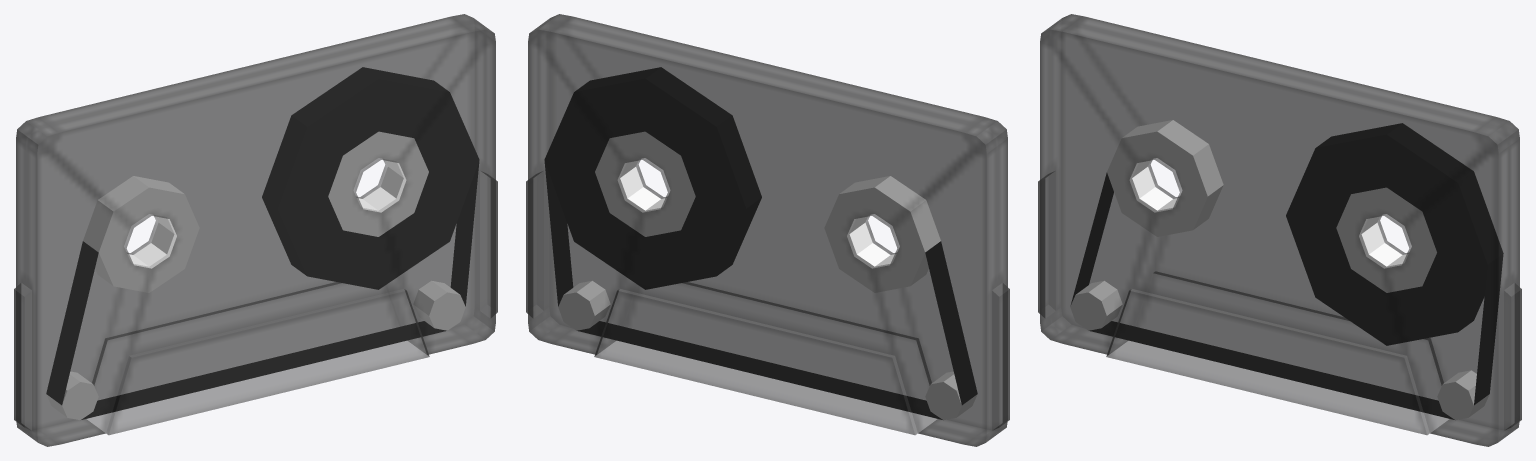
File: cassettelowpoly.glb
3 views of the same model, side by side, from view 1: azimuth 30°, elevation 25°; view 2: azimuth 150°, elevation 25°; view 3: azimuth 330°, elevation 25° (orthographic).
Visible parts, largest first — view 1: Behuizing, Band, Band2, Spoel2, Spoel, Wieltje, Wieltje2; view 2: Behuizing, Band, Band2, Spoel2, Spoel, Wieltje, Wieltje2; view 3: Behuizing, Band, Spoel2, Band2, Spoel, Wieltje2, Wieltje.
Boxes of the visible parts, x1=… form: Behuizing: x1=14, y1=14, x2=497, y2=446; Band: x1=262, y1=67, x2=479, y2=289; Band2: x1=46, y1=161, x2=479, y2=419; Spoel2: x1=83, y1=176, x2=199, y2=292; Spoel: x1=328, y1=131, x2=428, y2=236; Wieltje: x1=413, y1=281, x2=465, y2=330; Wieltje2: x1=46, y1=371, x2=98, y2=419; Behuizing: x1=526, y1=14, x2=1009, y2=446; Band: x1=544, y1=67, x2=761, y2=289; Band2: x1=544, y1=161, x2=977, y2=419; Spoel2: x1=824, y1=176, x2=940, y2=292; Spoel: x1=595, y1=131, x2=695, y2=236; Wieltje: x1=558, y1=281, x2=610, y2=330; Wieltje2: x1=925, y1=371, x2=977, y2=419; Behuizing: x1=1038, y1=14, x2=1521, y2=446; Band: x1=1286, y1=123, x2=1503, y2=345; Spoel2: x1=1107, y1=120, x2=1223, y2=236; Band2: x1=1071, y1=173, x2=1503, y2=419; Spoel: x1=1336, y1=187, x2=1436, y2=292; Wieltje2: x1=1070, y1=281, x2=1122, y2=330; Wieltje: x1=1437, y1=370, x2=1489, y2=419.
Bounding box in the file's own units: 0.1031 × 0.065 × 0.01.
Materials: 3 (1 with a texture image).
